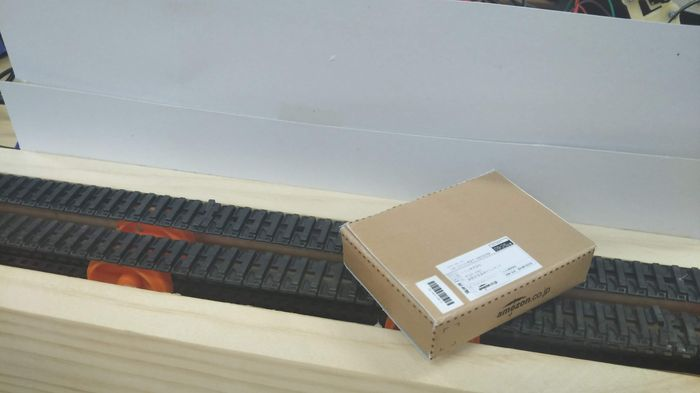box2: (334, 162, 598, 356)
